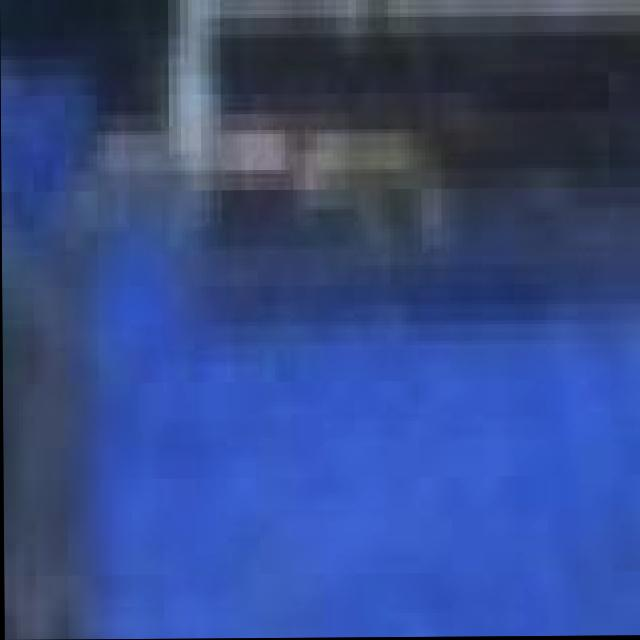potentiometer: (64, 0, 640, 640)
